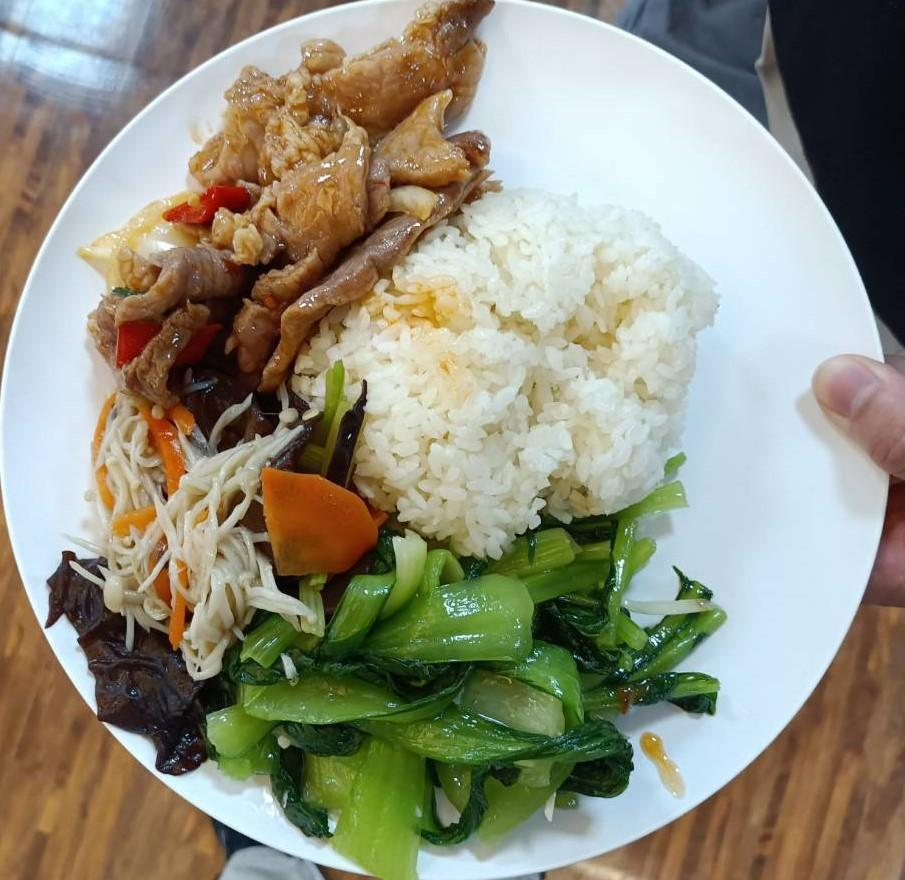big fried chicken leg: (6, 10, 905, 880)
big herbal chicken leg: (295, 186, 710, 549)
braised fish fillet: (196, 476, 740, 880), (41, 384, 373, 781)
braised pork: (77, 10, 492, 397)
